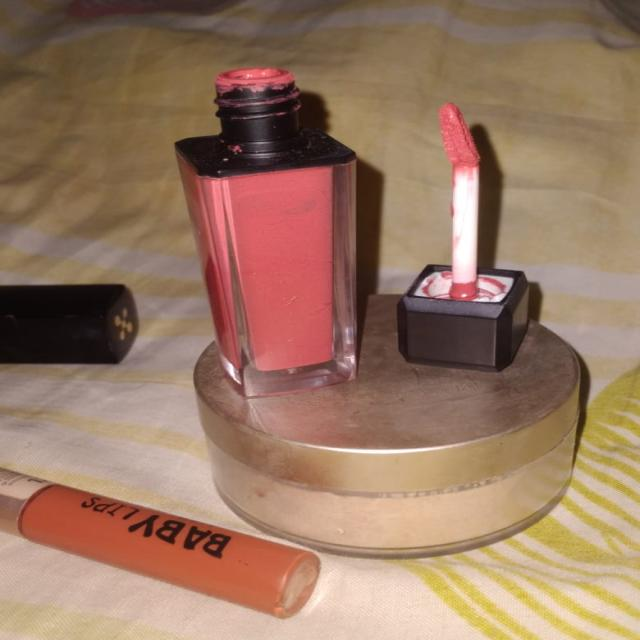lip gloss: (140, 56, 386, 412), (0, 443, 329, 640), (386, 93, 552, 387)
